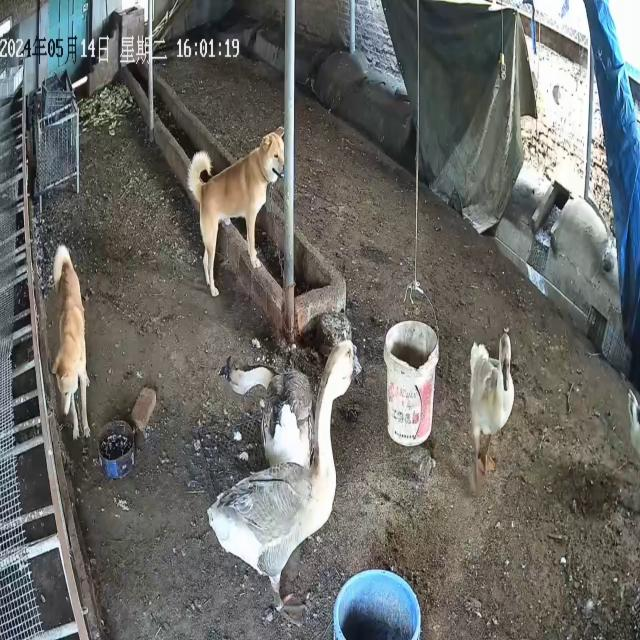dog: (188, 126, 286, 299), (51, 244, 92, 442)
